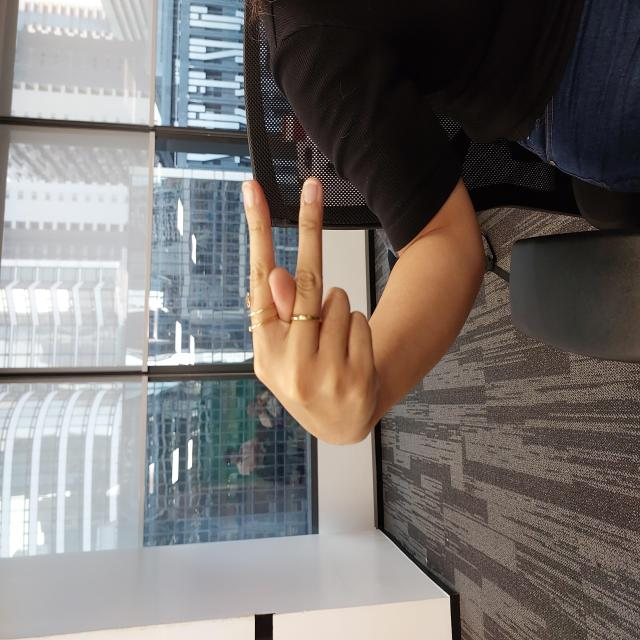K: (191, 238, 467, 384)
